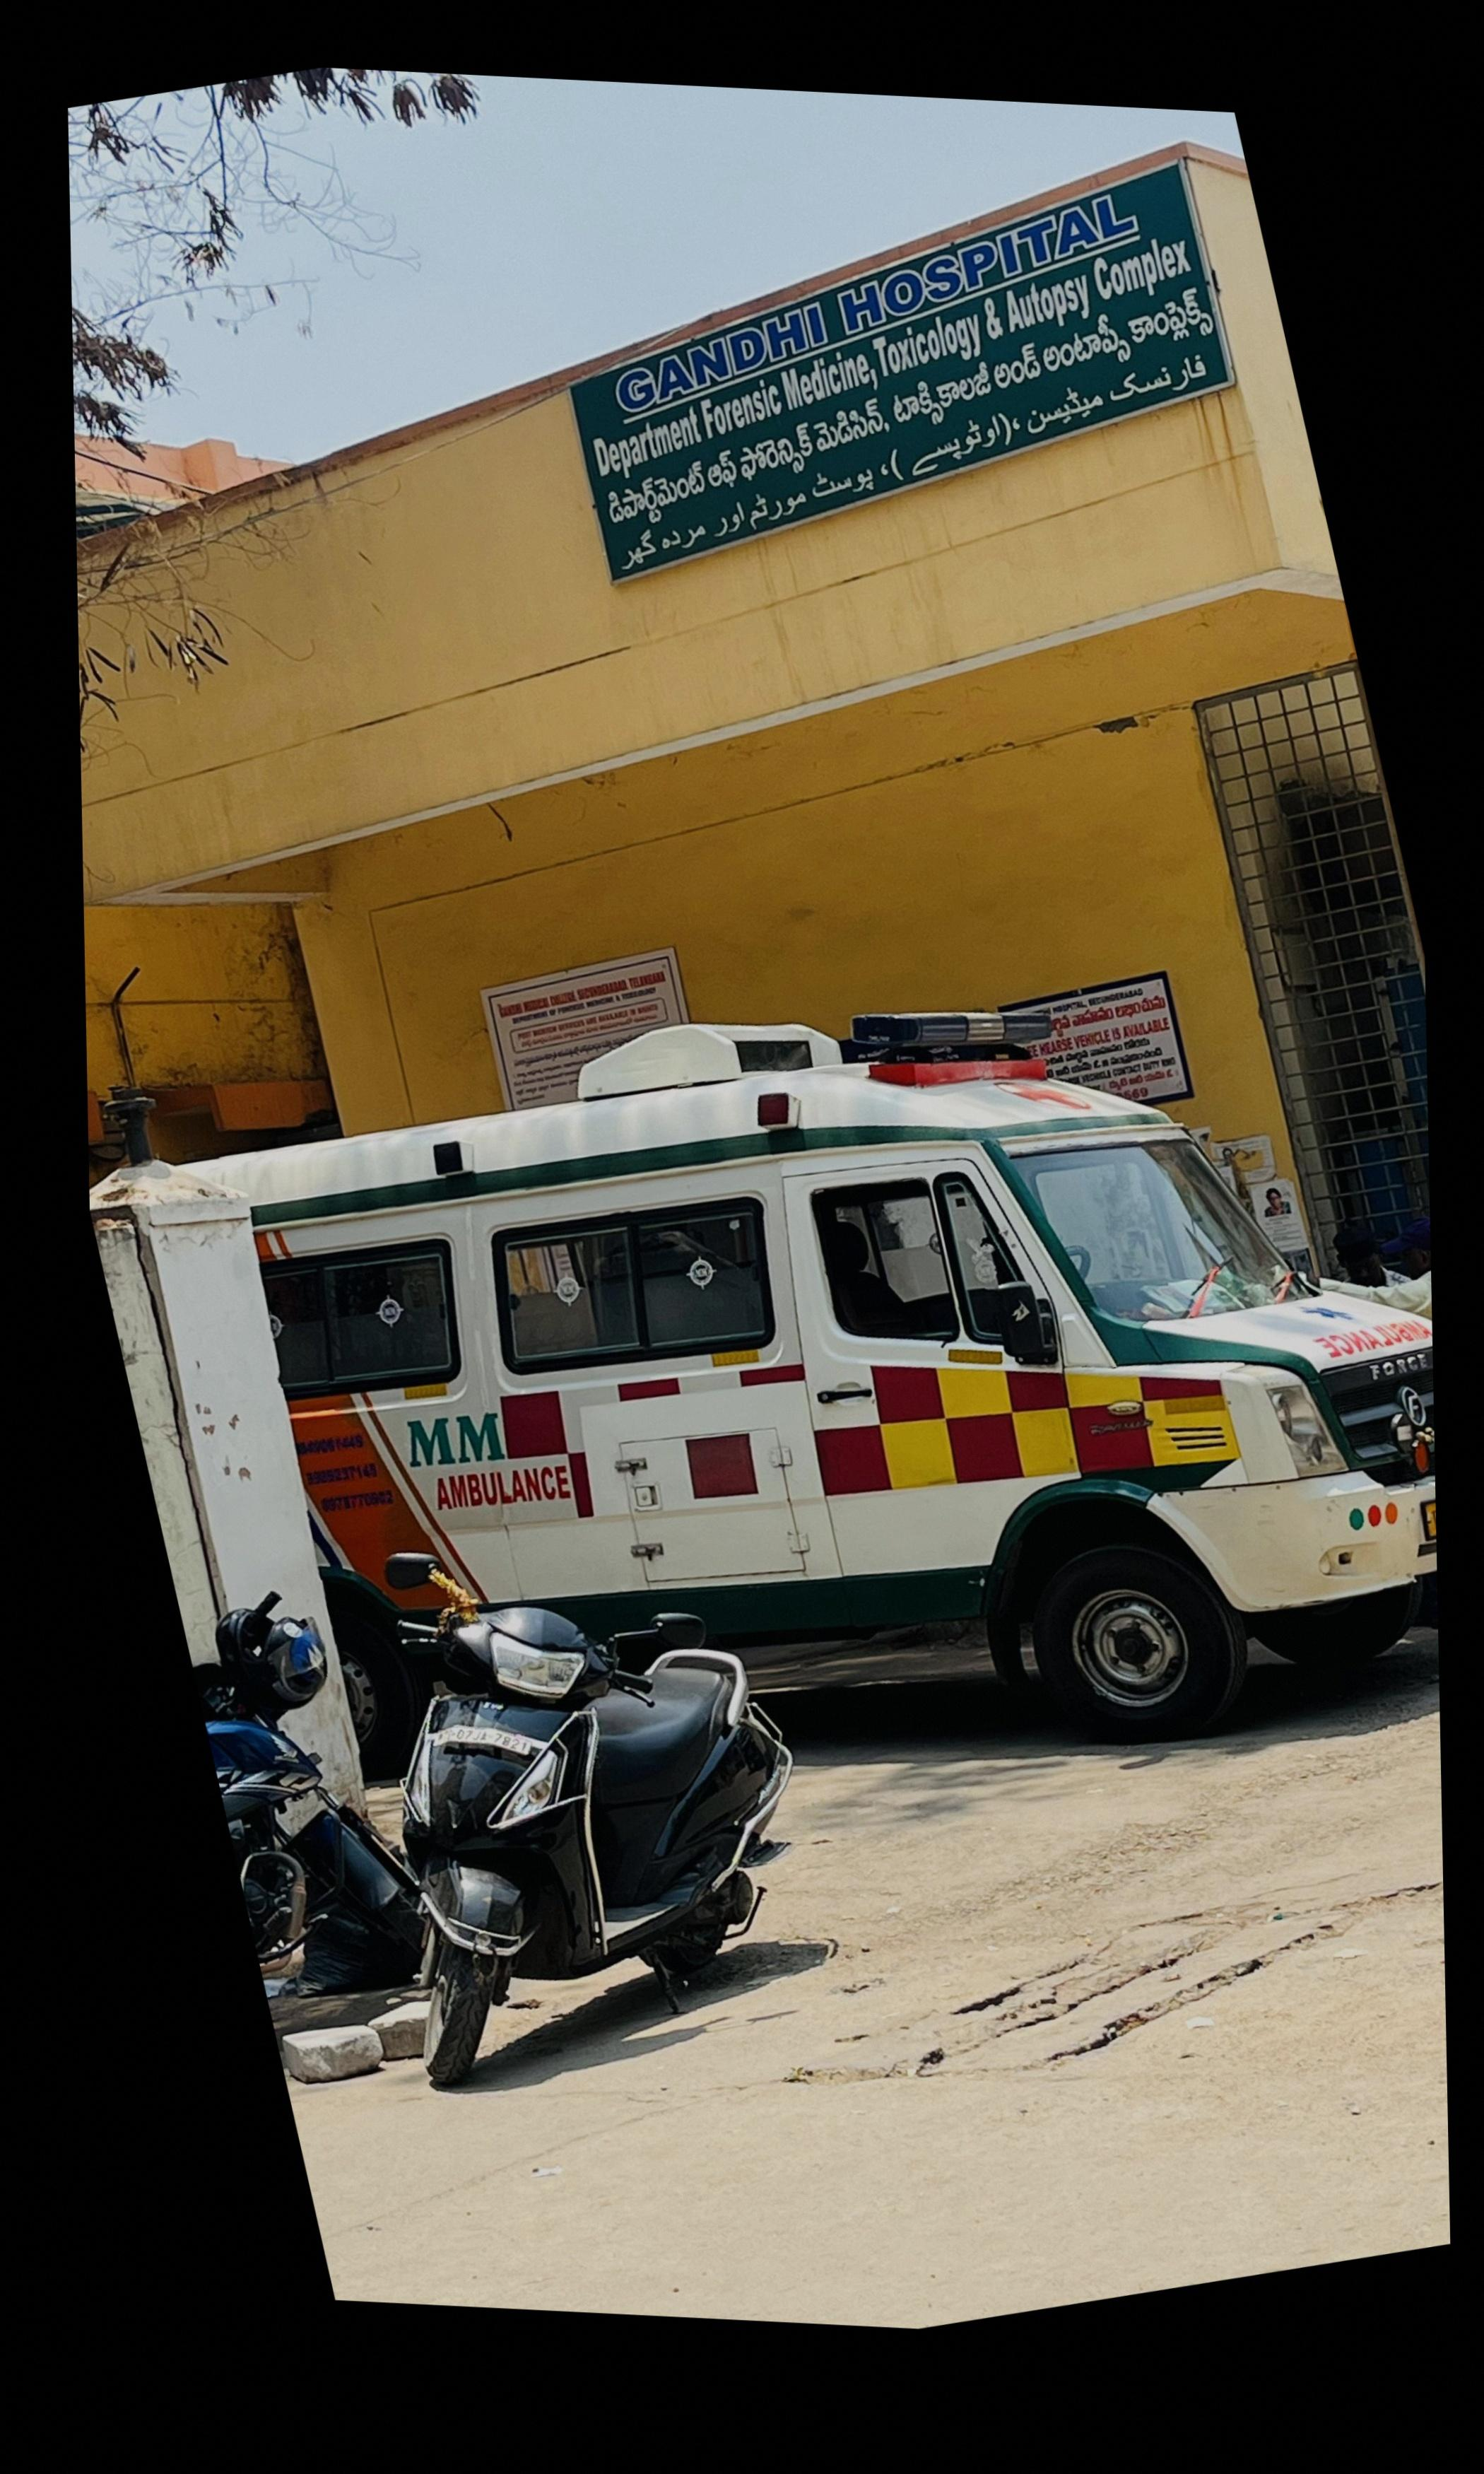ambulance: (175, 1011, 1435, 1769)
